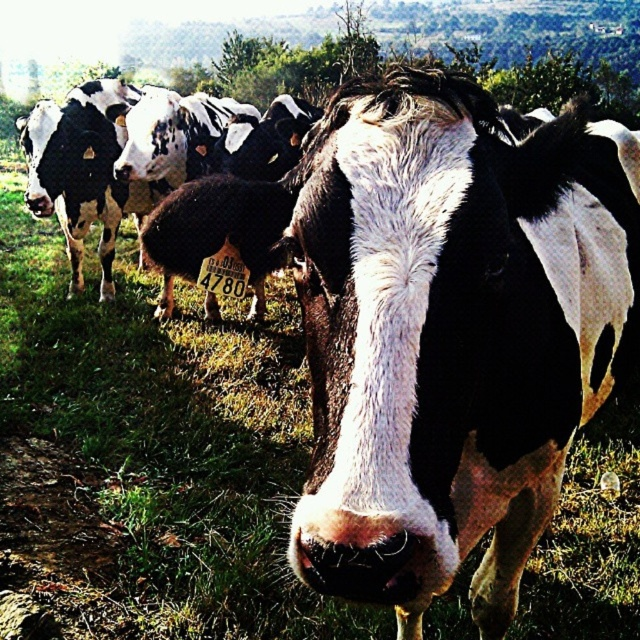Cattle: (17, 62, 640, 640)
